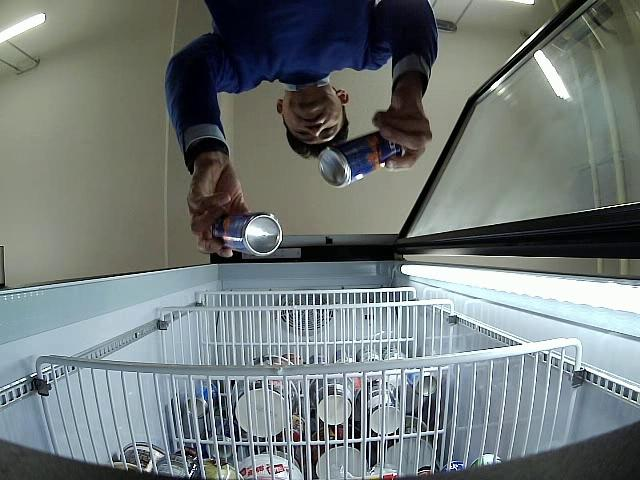00_hand: (188, 168, 252, 257), (374, 91, 432, 172)
16_hot6: (317, 129, 406, 187), (211, 212, 282, 257)
